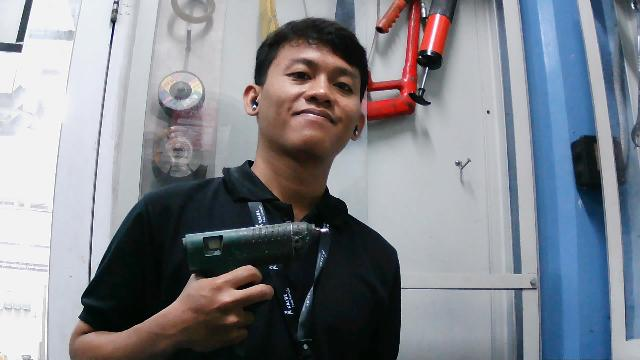gun_lem: (173, 215, 341, 303)
